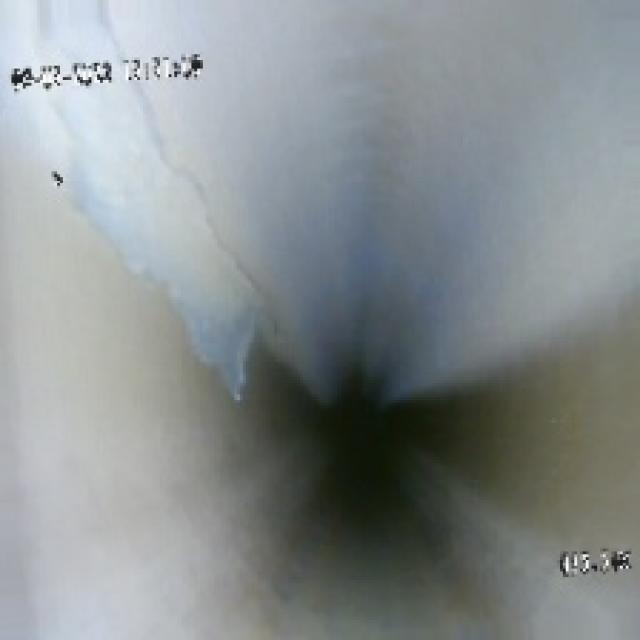pipe_surface_damage: (85, 103, 248, 403)
